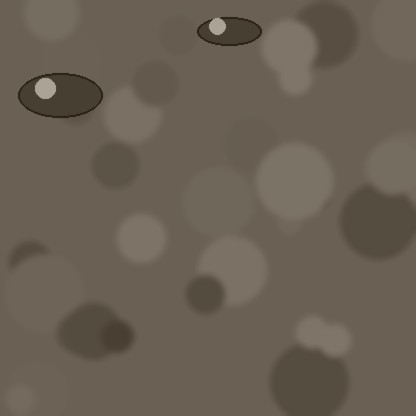gota: (18, 75, 102, 121), (197, 18, 261, 48)
